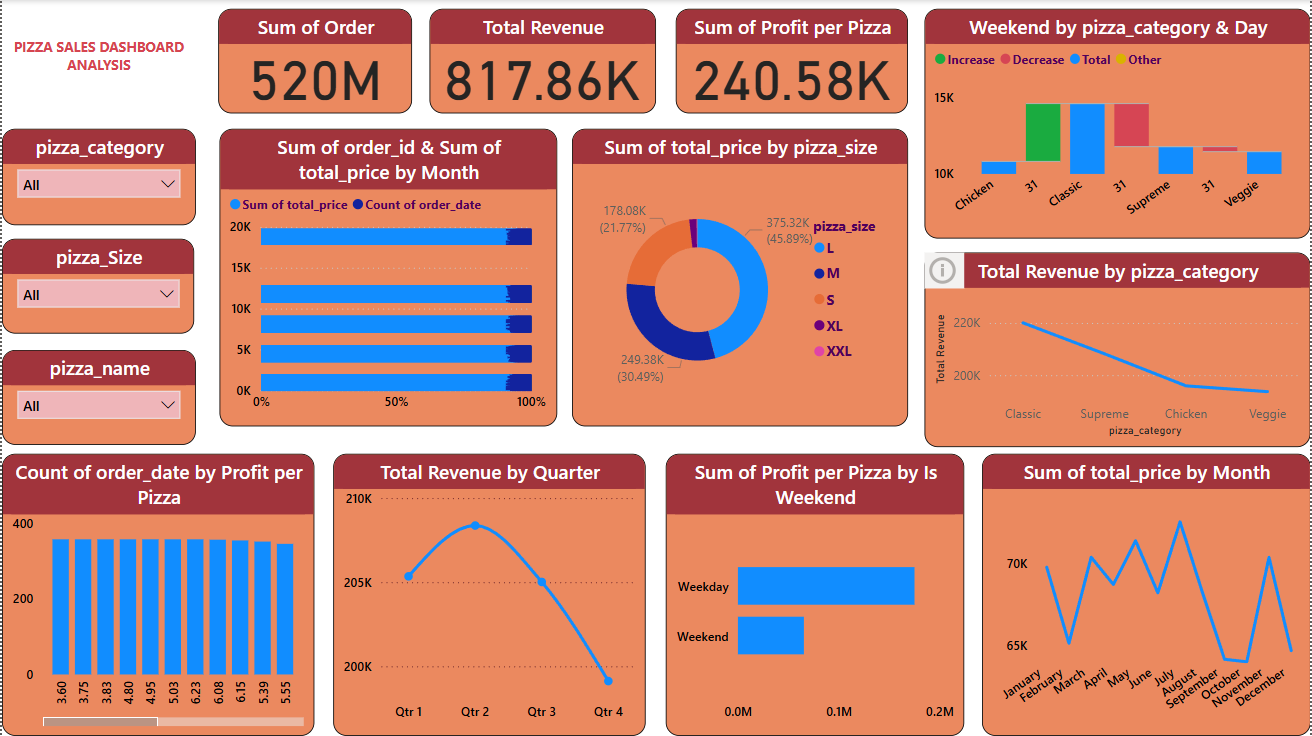

The page's visual inventory and layout, read from the dashboard file:
{"tool":"powerbi","page":{"name":"Page 1","canvas":[1280,720],"ordinal":0},"visuals":[{"type":"lineChart","fields":{"Category":["pizza_sales.pizza_category"],"Y":["pizza_sales.Total Revenue"]},"box":[902.5,8.8,377.5,190],"z":0},{"type":"lineChart","fields":{"Category":["pizza_sales.order_date.Variation.Date Hierarchy.Month"],"Y":["Count(pizza_sales.Sales)"]},"box":[902.5,221.3,377.9,276.4],"z":1000},{"type":"card","title":"Total Order","fields":{"Values":["Count(pizza_sales.order_id)"]},"box":[211.6,8.6,189.5,102.7],"z":2000},{"type":"card","title":"Total Revenue","fields":{"Values":["pizza_sales.Total Revenue"]},"box":[418.2,8.6,221.3,102.7],"z":3000},{"type":"card","title":"Total Profit","fields":{"Values":["Sum(pizza_sales.Profit per Pizza)"]},"box":[659.1,8.6,227.4,102.7],"z":4000},{"type":"hundredPercentStackedBarChart","title":" pizza_category & Count of quantity by Sales","fields":{"Category":["pizza_sales.Sales"],"Series":["pizza_sales.pizza_category"],"Y":["Count(pizza_sales.quantity)"]},"box":[211.3,435,673.8,285.4],"z":5000},{"type":"waterfallChart","fields":{"Category":["pizza_sales.order_date.Variation.Date Hierarchy.Quarter"],"Y":["pizza_sales.Total Revenue"]},"box":[560.1,126,326.5,284.9],"z":6000},{"type":"donutChart","fields":{"Y":["Count(pizza_sales.total_price)"],"Category":["pizza_sales.pizza_size"]},"box":[211.6,126,328.9,291],"z":7000},{"type":"slicer","title":"pizza_category","fields":{"Values":["pizza_sales.pizza_category"]},"box":[0,277.6,189.5,157.7],"z":8000},{"type":"slicer","title":"pizza_name","fields":{"Values":["pizza_sales.pizza_name"]},"box":[0,589.4,189.5,92.9],"z":9000},{"type":"slicer","title":"pizza_Size","fields":{"Values":["pizza_sales.pizza_size"]},"box":[0,468.3,188.3,92.9],"z":10000},{"type":"clusteredBarChart","fields":{"Category":["pizza_sales.Is Weekend"],"Y":["Count(pizza_sales.Sales)"]},"box":[902.5,514.8,377.9,205.4],"z":11000},{"type":"textbox","box":[0,7.3,187.1,84.4],"z":12000},{"type":"image","box":[0,91.7,189.5,163.9],"z":13000},{"type":"actionButton","box":[902.5,8.8,42.5,40],"z":14000},{"type":"shape","box":[560,126.2,30,37.5],"z":15000}]}

Visuals, with their boxes in screenshot pixels (x1, y1, x2, y2), scaled from the page's 1280x720 canvas onto the 1312x736 screenshot:
lineChart - pizza_sales.pizza_category x pizza_sales.Total Revenue: Rect(925, 9, 1311, 203)
lineChart - pizza_sales.order_date.Variation.Date Hierarchy.Month x Count(pizza_sales.Sales): Rect(925, 226, 1311, 509)
"Total Order" card: Rect(217, 9, 411, 114)
"Total Revenue" card: Rect(429, 9, 655, 114)
"Total Profit" card: Rect(676, 9, 909, 114)
" pizza_category & Count of quantity by Sales" hundredPercentStackedBarChart: Rect(217, 445, 907, 735)
waterfallChart - pizza_sales.order_date.Variation.Date Hierarchy.Quarter x pizza_sales.Total Revenue: Rect(574, 129, 909, 420)
donutChart - Count(pizza_sales.total_price) x pizza_sales.pizza_size: Rect(217, 129, 554, 426)
"pizza_category" slicer: Rect(0, 284, 194, 445)
"pizza_name" slicer: Rect(0, 602, 194, 697)
"pizza_Size" slicer: Rect(0, 479, 193, 574)
clusteredBarChart - pizza_sales.Is Weekend x Count(pizza_sales.Sales): Rect(925, 526, 1311, 735)
textbox: Rect(0, 7, 192, 94)
image: Rect(0, 94, 194, 261)
actionButton: Rect(925, 9, 969, 50)
shape: Rect(574, 129, 605, 167)
